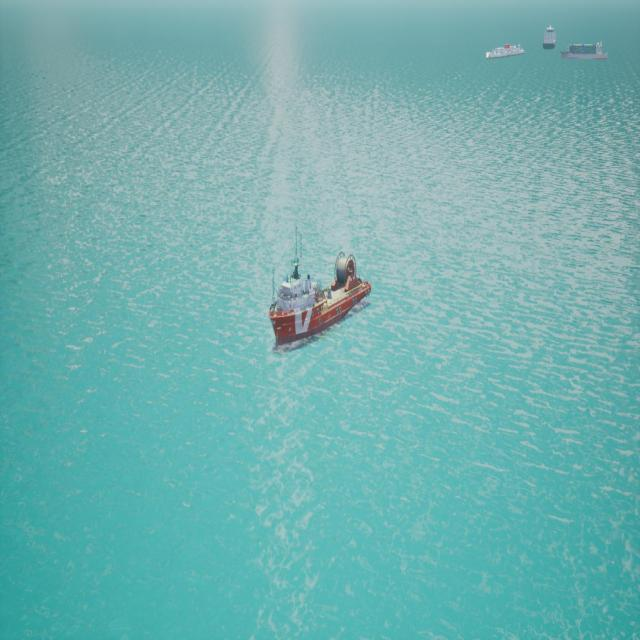tug boat: (267, 239, 371, 354)
